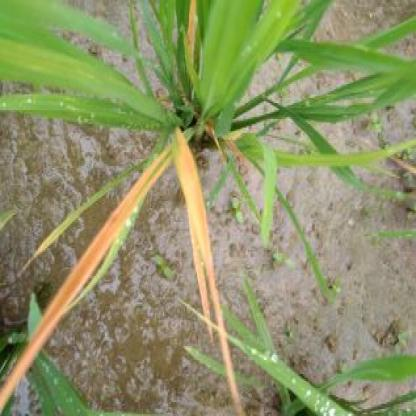Tungro: (176, 146, 225, 415)
